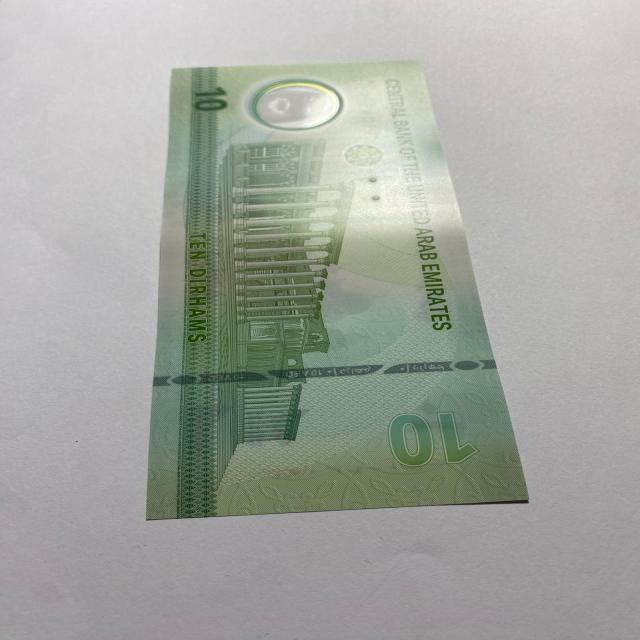10_AED: (145, 58, 535, 525)
